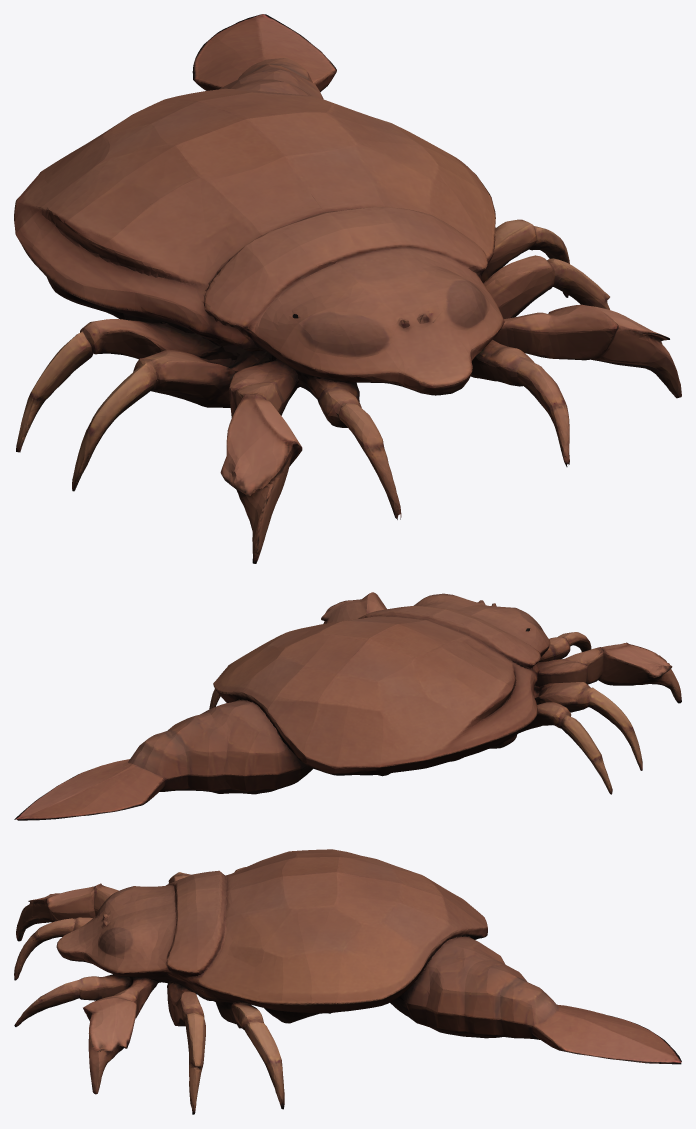
3 renders of one model, top to bottom at view 1: azimuth 30°, elevation 25°; view 2: azimuth 150°, elevation 25°; view 3: azimuth 270°, elevation 25°, orthographic. The views are drawn at different scales.
Visible parts, largest first — view 1: world; view 2: world; view 3: world.
Part boxes in pixels (x1,y1,x2,y2): world: [14, 14, 681, 563]; world: [14, 592, 681, 820]; world: [14, 849, 681, 1114].
Bounding box in the file's own units: 0.6712 × 0.2573 × 1.
Materials: 1 (1 with a texture image).
